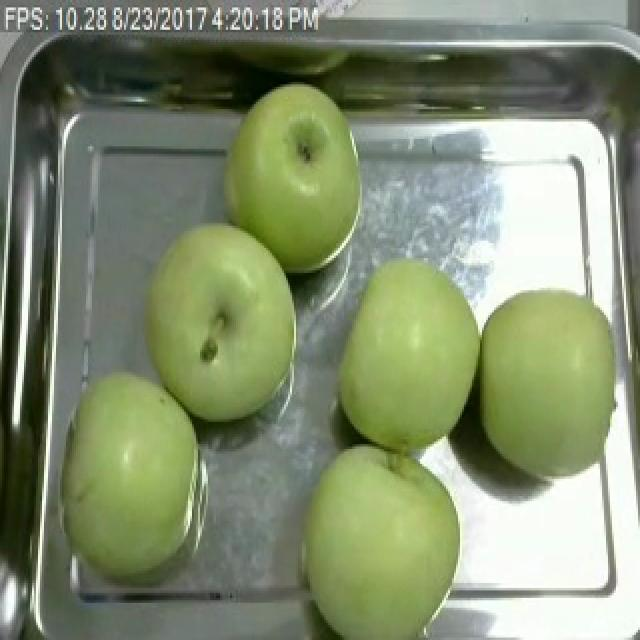50-_ripeness: (49, 365, 210, 586), (150, 205, 296, 448), (486, 270, 632, 499), (330, 244, 490, 448), (292, 454, 465, 640), (228, 84, 371, 287)
